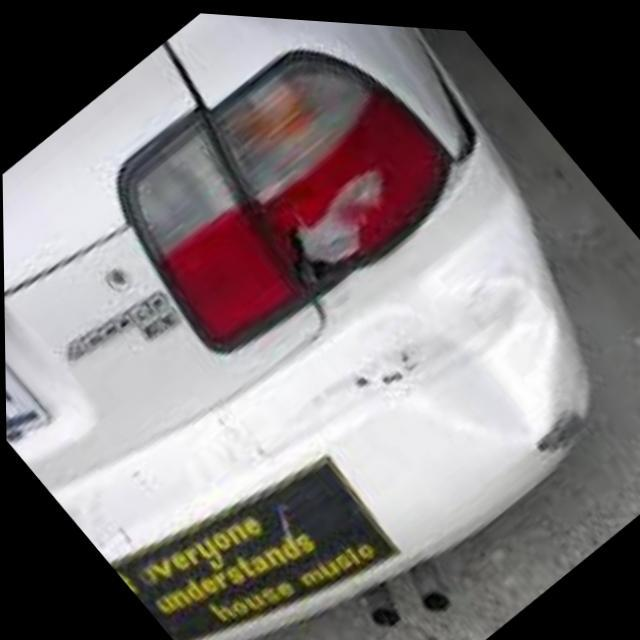dent: (335, 250, 593, 460)
lamp broken: (293, 158, 403, 281)
